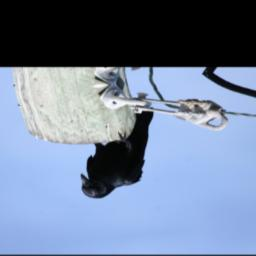Crow: (63, 105, 173, 201)
